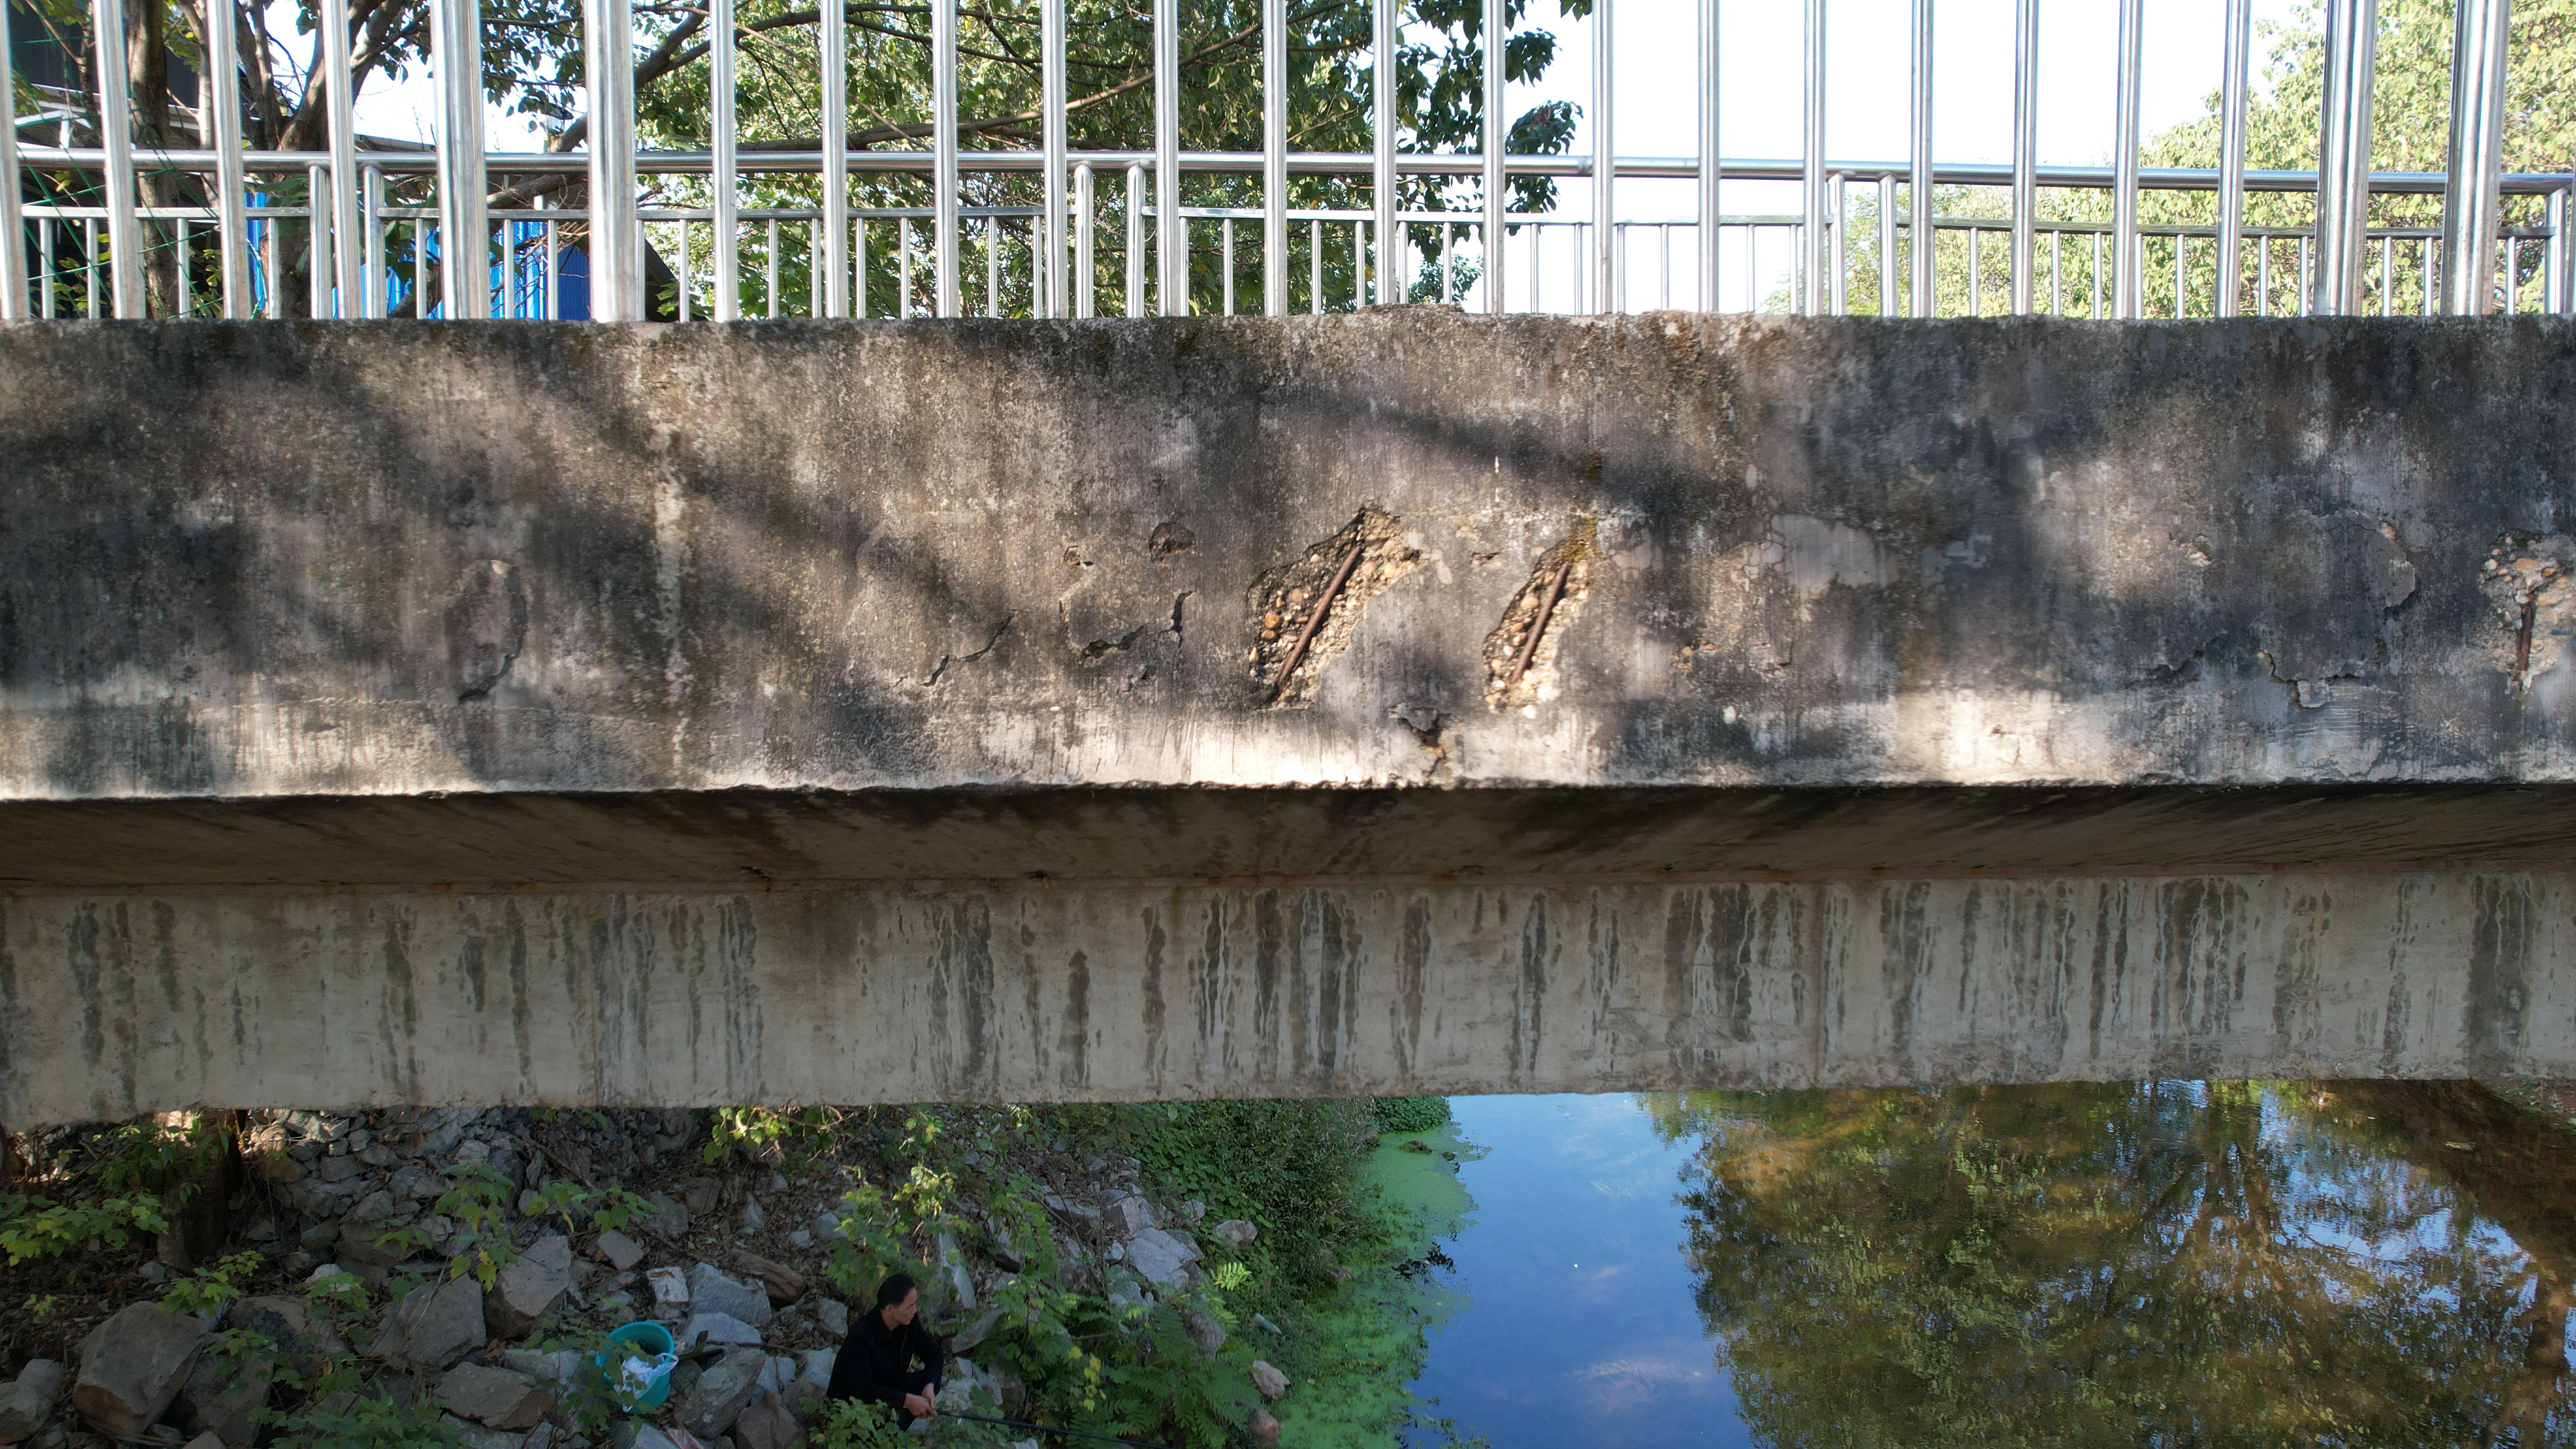hole: (1474, 550, 1504, 566)
rebar: (1274, 545, 1362, 694), (1507, 563, 1569, 683), (2516, 598, 2539, 671), (740, 865, 773, 883), (1421, 732, 1440, 748)
separation: (2254, 506, 2420, 713), (846, 510, 1021, 694), (2063, 524, 2227, 694), (1058, 520, 1200, 697), (405, 559, 529, 713), (1387, 704, 1470, 786), (1746, 603, 1796, 676)
spall: (1242, 502, 1435, 715), (1481, 533, 1596, 713), (2470, 527, 2576, 695), (1670, 637, 1721, 671)
